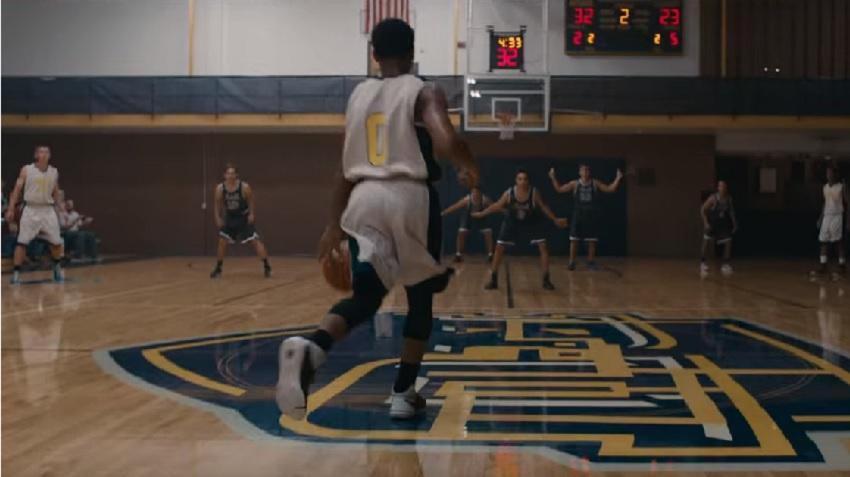basketball: (325, 245, 361, 287)
